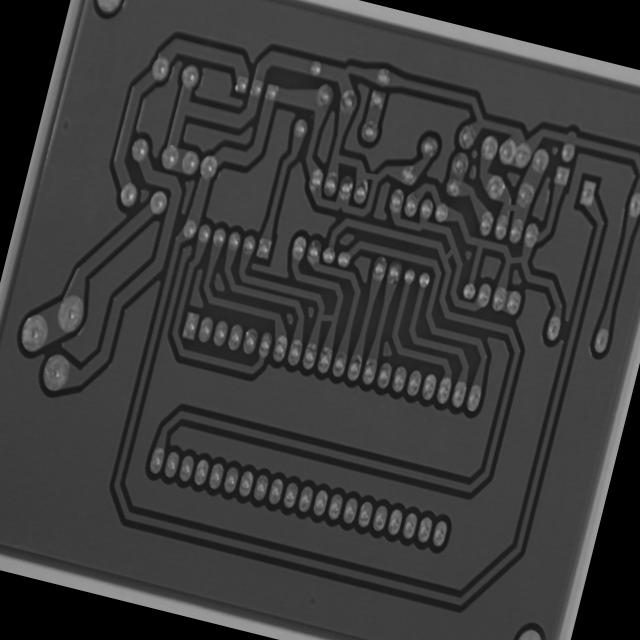short: (354, 158, 388, 192), (310, 301, 342, 336), (498, 246, 532, 278), (434, 238, 462, 270), (496, 190, 524, 222)
